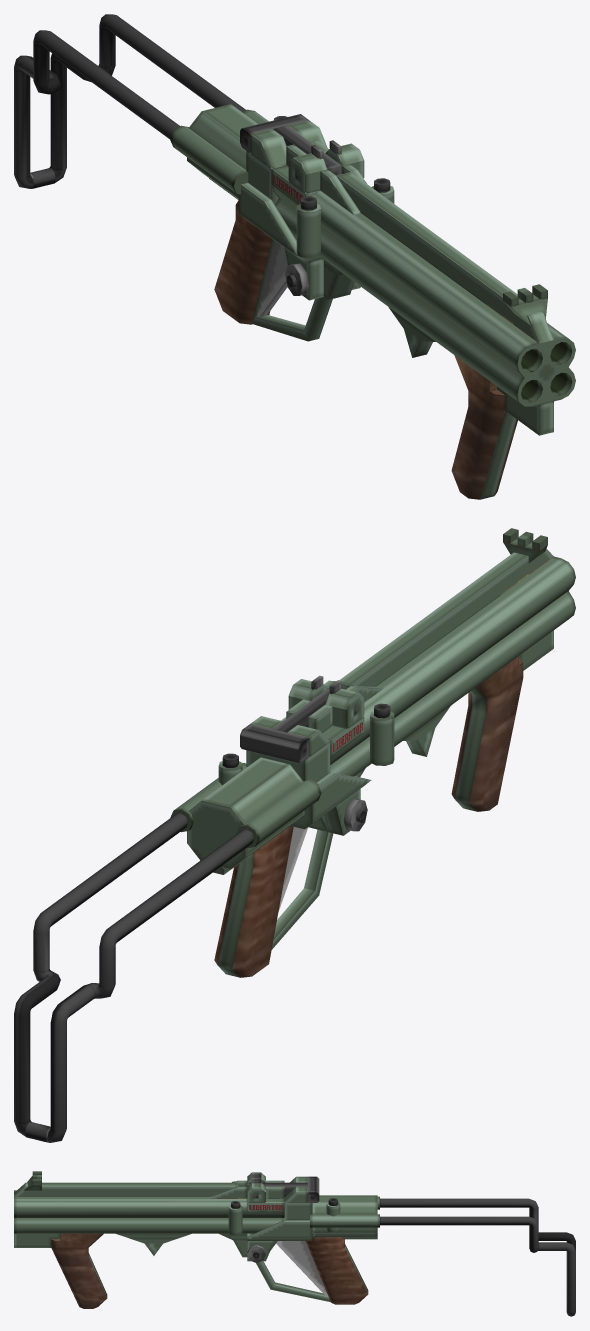
File: liberator.obj
3 renders of one model, top to bottom at view 1: azimuth 30°, elevation 25°; view 2: azimuth 150°, elevation 25°; view 3: azimuth 270°, elevation 25°, orthographic. The views are drawn at different scales.
Parts seen in each view (by area): view 1: Barrel, Gun, Latch; view 2: Gun, Barrel, Latch; view 3: Barrel, Gun, Latch.
Part boxes in pixels (x1=…): Barrel: x1=271, y1=139, x2=575, y2=499; Gun: x1=14, y1=14, x2=360, y2=341; Latch: x1=240, y1=114, x2=342, y2=175; Gun: x1=14, y1=716, x2=371, y2=1142; Barrel: x1=281, y1=528, x2=575, y2=832; Latch: x1=240, y1=689, x2=329, y2=763; Barrel: x1=14, y1=1171, x2=284, y2=1308; Gun: x1=247, y1=1176, x2=575, y2=1316; Latch: x1=247, y1=1176, x2=319, y2=1202.
Bounding box in the file's own units: 1.62 × 4.06 × 15.06.
